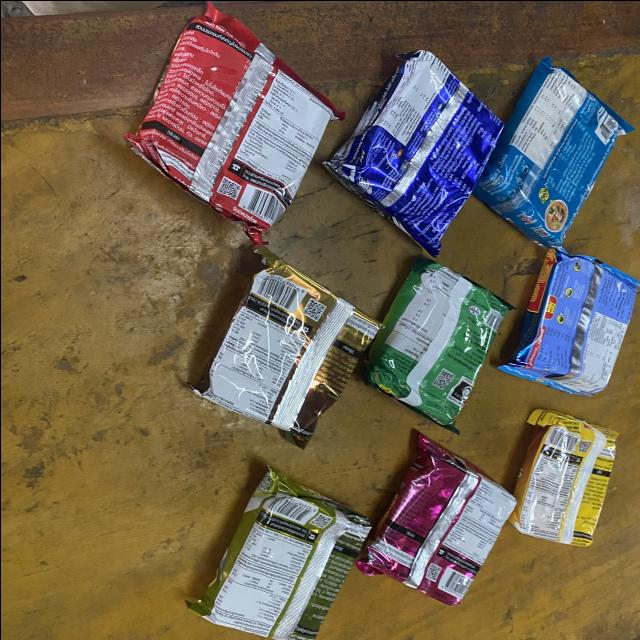plastik: (124, 2, 344, 245), (191, 247, 379, 447), (323, 49, 503, 255), (185, 468, 369, 640), (472, 57, 633, 247), (355, 434, 515, 604), (360, 258, 512, 431), (499, 247, 640, 395), (508, 408, 617, 545)
